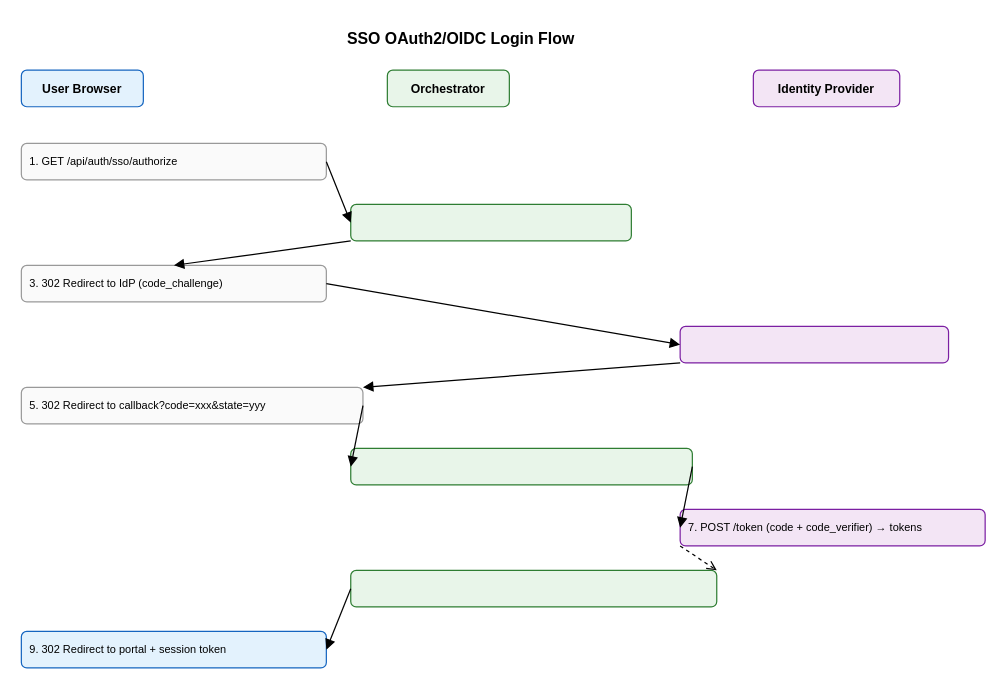
Image size: 1007x689. Some labels were removed from this diagram. The shapes that lost their labels are listed below. From the top down, each one's box as (x1, y1, x2, y2) in pixels, then its label:
(350, 203, 631, 241): 2. Generate state + PKCE code_verifier
(679, 325, 949, 363): 4. User authenticates at IdP
(350, 447, 692, 485): 6. Validate state (CSRF) + Exchange code for tokens
(350, 569, 717, 607): 8. Extract claims → Find/Create user (JIT) → Issue JWT
